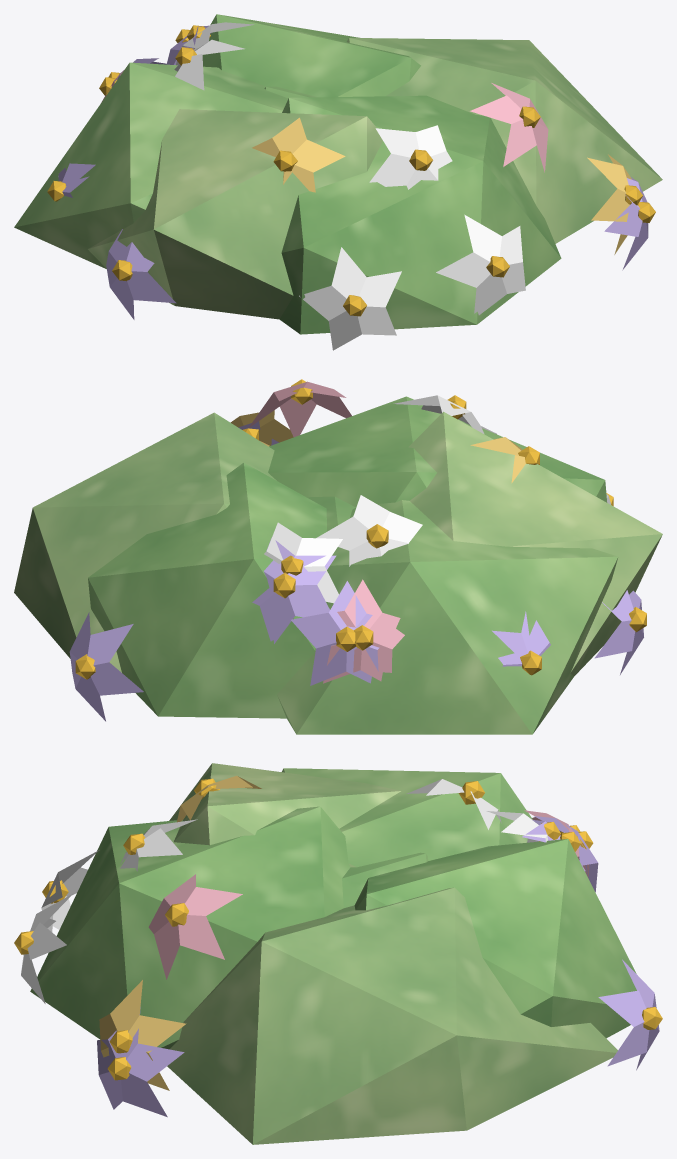
The model's file is shrub_bloom_sky_b.glb.
The picture shows the model from 3 angles, top to bottom: view 1: azimuth 30°, elevation 25°; view 2: azimuth 150°, elevation 25°; view 3: azimuth 270°, elevation 25°; orthographic projection. The views are drawn at different scales.
Visible parts, largest first — view 1: shrub_bloom_sky_b; view 2: shrub_bloom_sky_b; view 3: shrub_bloom_sky_b.
Boxes of the visible parts, x1,y1,x2,y2 form: shrub_bloom_sky_b: [14, 14, 662, 350]; shrub_bloom_sky_b: [14, 379, 662, 734]; shrub_bloom_sky_b: [14, 763, 662, 1144].
Bounding box in the file's own units: 1.01 × 0.3249 × 0.9618.
Materials: 2 (1 with a texture image).
